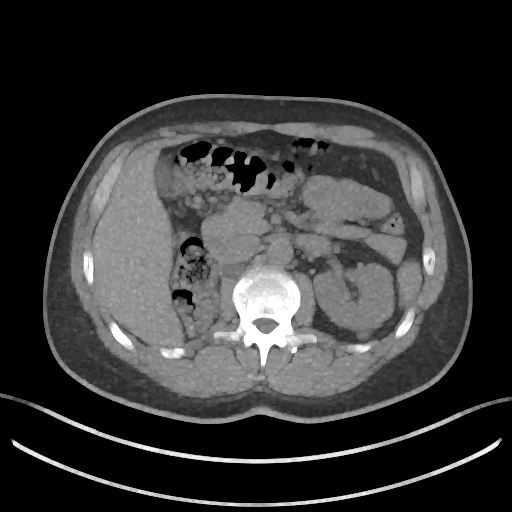Lesion: (356, 326, 371, 343)
